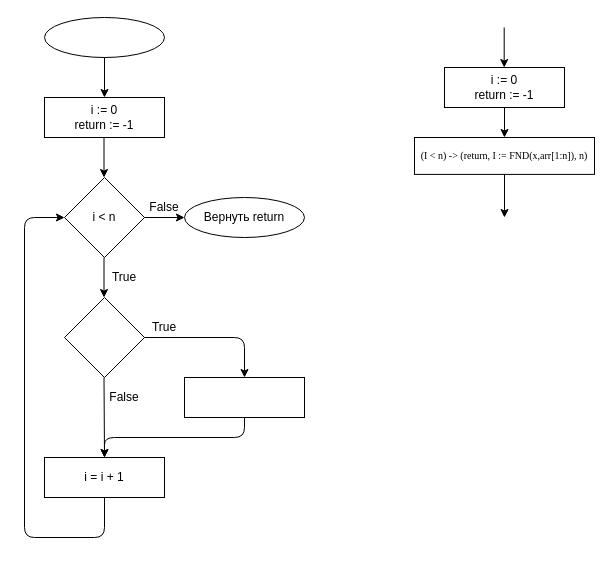
This 612x563 diagram has some shape labels left out. Each missing label, with the centre of its shape:
"arr[i] = x" belongs at (x=104, y=337).
"return = i" belongs at (x=244, y=397).
"Начало" belongs at (x=104, y=37).
